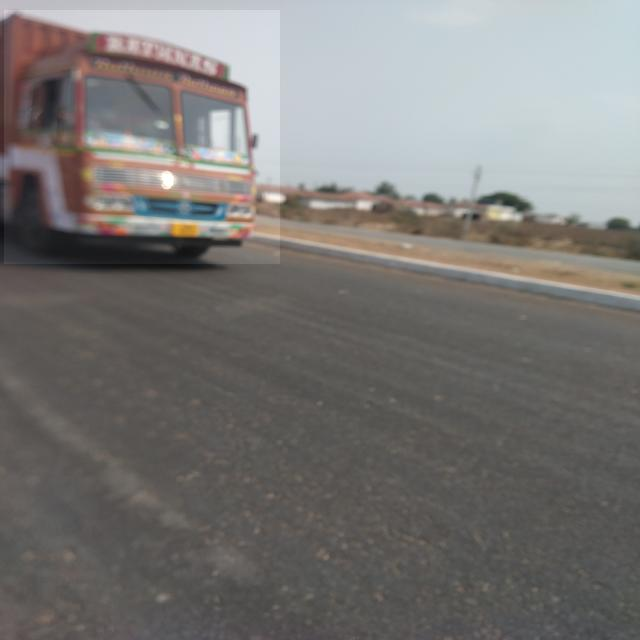Truck: (4, 10, 280, 264)
